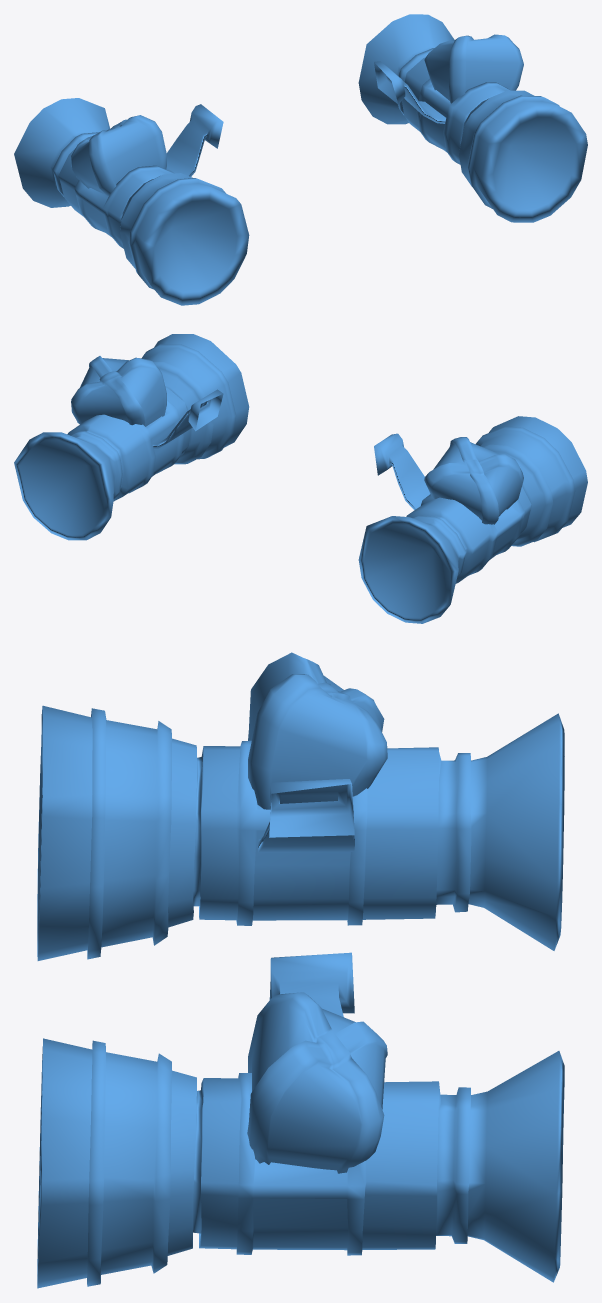
Rendered from gun_noslkin_1material.fbx.
3 views of the same model, one above another, from view 1: azimuth 30°, elevation 25°; view 2: azimuth 150°, elevation 25°; view 3: azimuth 270°, elevation 25° (orthographic). The views are drawn at different scales.
Parts seen in each view (by area): view 1: gun; view 2: gun; view 3: gun.
Boxes of the visible parts, x1,y1,x2,y2 form: gun: (14,14,587,305); gun: (14,334,587,623); gun: (37,652,564,1288).
Bounding box in the file's own units: 5.06 × 1.52 × 2.59.
